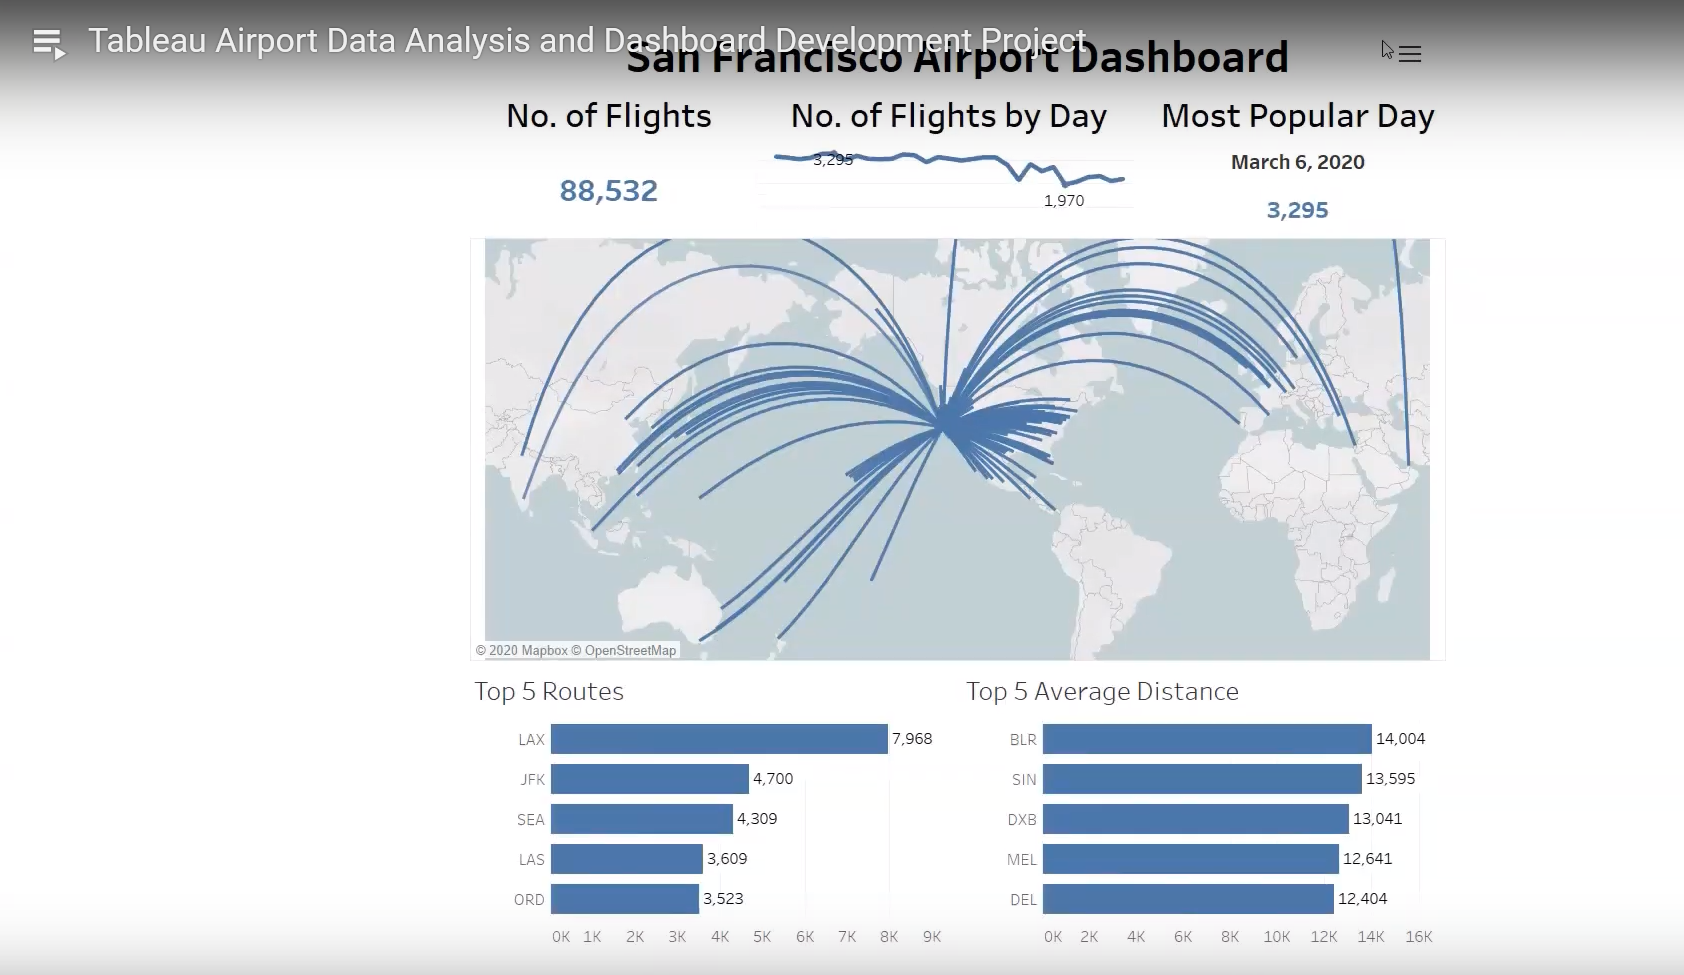

The page's visual inventory and layout, read from the dashboard file:
{"tool":"tableau","page":{"name":"Dashboard 1 (2)","canvas":[1000,1000],"ordinal":1},"visuals":[{"type":"text","box":[8,8,984,41.9]},{"type":"dashboard-object","box":[935,16,24,24]},{"type":"dashboard-object","box":[942,19,24,24]},{"type":"worksheet","title":"no of flights","mark":"Automatic","box":[8,49.9,287,153.1]},{"type":"worksheet","title":"no of flights by day","mark":"Line","rows":["Calculation_716635298459131904"],"cols":["Date"],"box":[295,49.9,478,153.1]},{"type":"worksheet","title":"most popular day","mark":"Automatic","cols":["Date"],"box":[773,49.9,219,153.1]},{"type":"filter","title":"routes","param":"[federated.1e5s5ve1mqax1f18e5sf212plyrd].[none:Route:nk]","box":[834,52,160,163]},{"type":"worksheet","title":"map","mark":"Multipolygon","box":[8,203,984,416.8]},{"type":"filter","title":"map","param":"[federated.1e5s5ve1mqax1f18e5sf212plyrd].[sum:Calculation_484981393675448322:qk]","box":[834,215,160,73]},{"type":"worksheet","title":"routes","mark":"Automatic","rows":["Calculation_394346450493517824"],"cols":["Calculation_716635298459131904"],"box":[8,619.8,492,372.2]},{"type":"worksheet","title":"distance","mark":"Automatic","rows":["Calculation_394346450493517824"],"cols":["Calculation_484981393675448322"],"box":[500,619.8,492,372.2]}]}

Visuals, with their boxes on the page's 1000x1000 design canvas (x1, y1, x2, y2). These are canvas units, not pixel positions in the 1684x975 screenshot, which may show the page scaled, cropped or inside an application window:
text: rect(8, 8, 992, 50)
dashboard-object: rect(935, 16, 959, 40)
dashboard-object: rect(942, 19, 966, 43)
"no of flights" worksheet: rect(8, 50, 295, 203)
"no of flights by day" worksheet (Line marks): rect(295, 50, 773, 203)
"most popular day" worksheet: rect(773, 50, 992, 203)
"routes" filter: rect(834, 52, 994, 215)
"map" worksheet (Multipolygon marks): rect(8, 203, 992, 620)
"map" filter: rect(834, 215, 994, 288)
"routes" worksheet: rect(8, 620, 500, 992)
"distance" worksheet: rect(500, 620, 992, 992)
